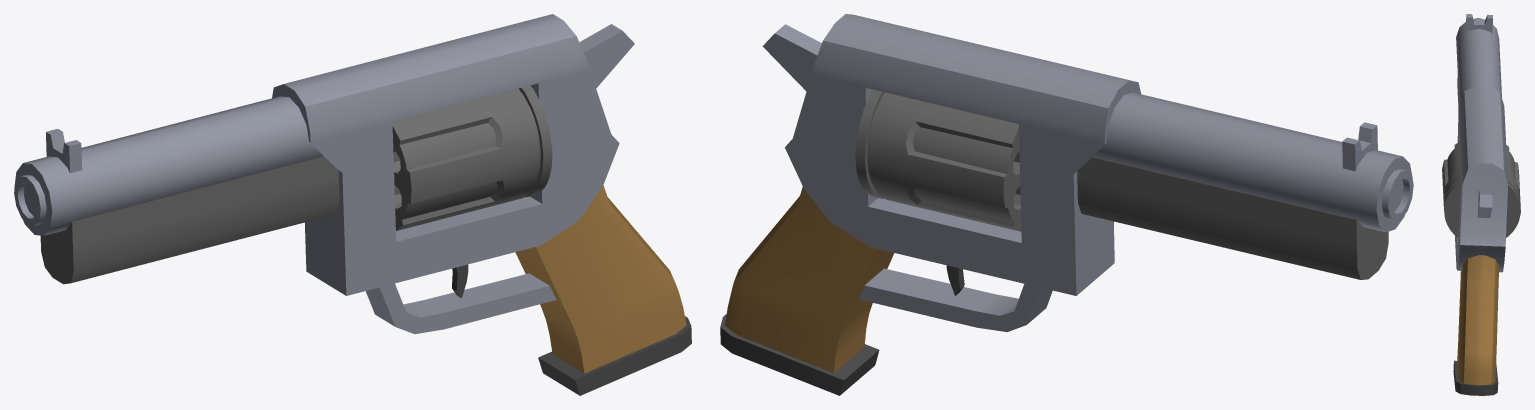
Rendered from Revolver.glb.
3 renders of one model, left to right at view 1: azimuth 30°, elevation 25°; view 2: azimuth 150°, elevation 25°; view 3: azimuth 270°, elevation 25°, orthographic. The views are drawn at different scales.
Visible parts, largest first — view 1: Revolver; view 2: Revolver; view 3: Revolver.
Part boxes in pixels (left/top/right/bottom): Revolver: left=14, top=14, right=691, bottom=395; Revolver: left=720, top=14, right=1413, bottom=395; Revolver: left=1442, top=14, right=1520, bottom=395.
Bounding box in the file's own units: 0.9888 × 0.5289 × 0.1751.
